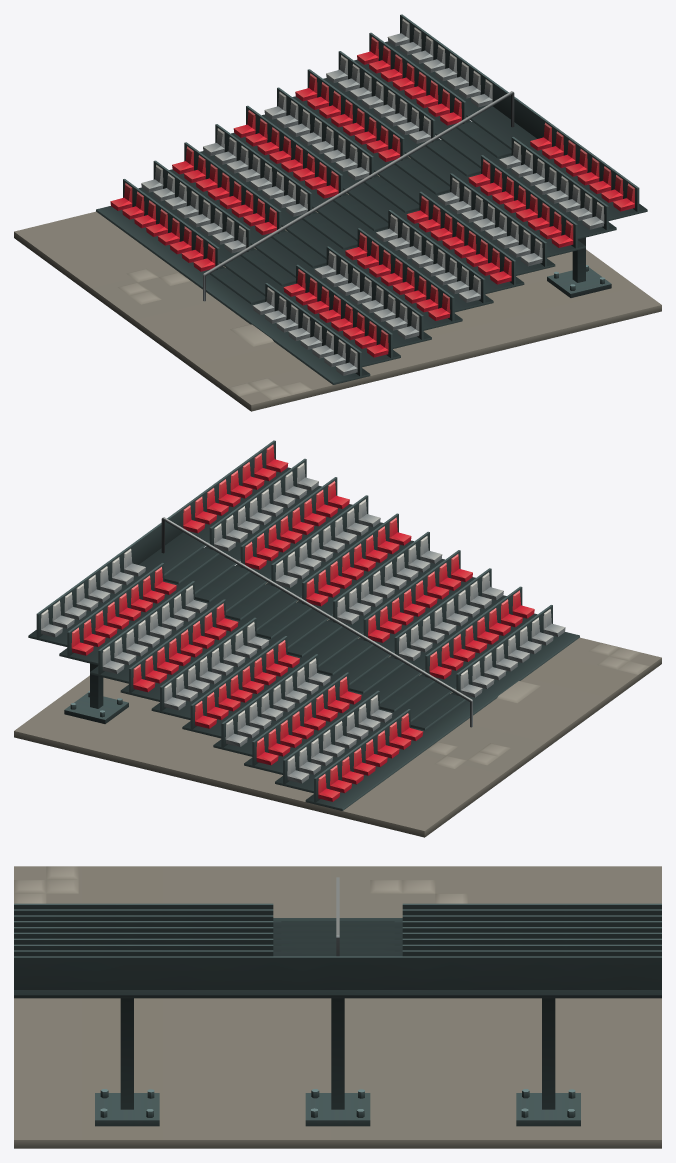
File: Stand_1E.fbx
The picture shows the model from 3 angles, top to bottom: view 1: azimuth 30°, elevation 25°; view 2: azimuth 150°, elevation 25°; view 3: azimuth 270°, elevation 25°; orthographic projection. The views are drawn at different scales.
Visible parts, largest first — view 1: Stand_1E; view 2: Stand_1E; view 3: Stand_1E.
Part boxes in pixels (<box>): Stand_1E: <box>14,14,661,411</box>; Stand_1E: <box>14,440,661,837</box>; Stand_1E: <box>14,866,661,1148</box>.
Size of the model in its own units: 20 by 6.55 by 20.
